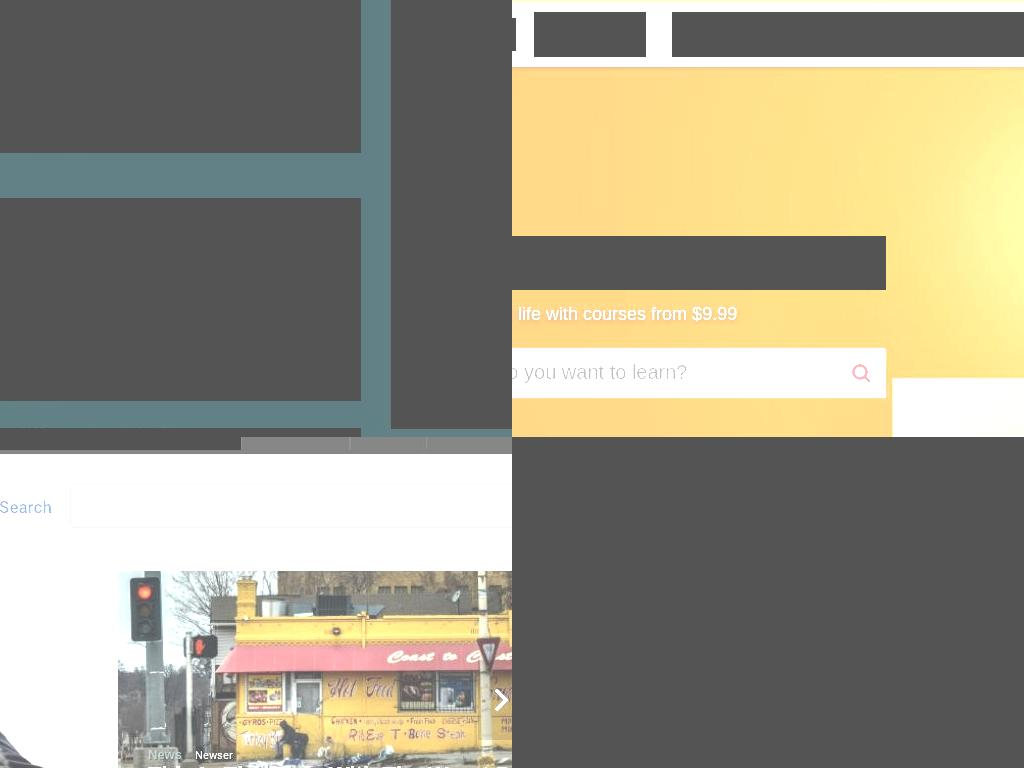button: (0, 571, 512, 768), (798, 587, 904, 636), (534, 12, 646, 57), (710, 587, 798, 636), (919, 535, 1024, 572), (904, 587, 973, 636), (644, 587, 710, 636), (820, 535, 903, 572), (911, 737, 1007, 768), (478, 659, 512, 740), (973, 587, 1024, 636), (241, 437, 350, 450), (85, 437, 167, 450), (350, 437, 427, 450), (167, 437, 241, 450), (17, 437, 85, 450)
field: (70, 483, 512, 528), (512, 347, 837, 398), (672, 12, 1024, 57), (713, 737, 907, 768)
heading: (773, 659, 885, 681)
iframe: (391, 0, 512, 429), (512, 437, 896, 485)
image: (713, 660, 758, 719), (0, 486, 58, 528), (489, 679, 512, 720), (983, 600, 1014, 619)
link: (512, 437, 1024, 768), (0, 747, 30, 762)
text: (0, 198, 361, 401), (0, 0, 361, 153), (512, 236, 886, 290), (512, 299, 886, 328), (773, 684, 1007, 722), (0, 428, 361, 437), (563, 27, 630, 42), (42, 749, 102, 762)
